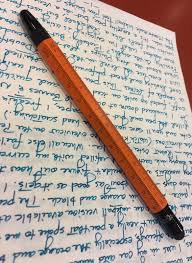pen: (17, 8, 185, 241)
